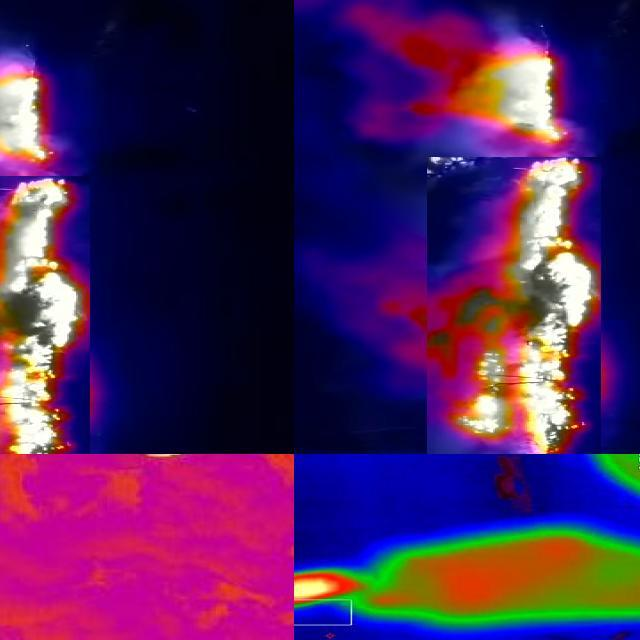fire: (428, 157, 602, 455), (1, 176, 91, 455), (408, 31, 572, 149), (1, 64, 52, 165), (295, 567, 368, 615)
